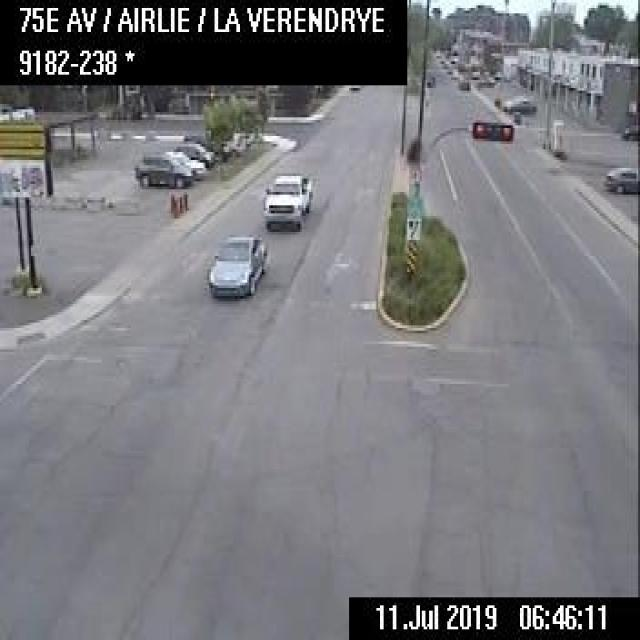construction: (172, 194, 179, 214), (176, 192, 182, 212)
vehicle: (206, 235, 266, 299), (262, 173, 310, 230), (132, 150, 191, 187), (165, 147, 204, 180), (602, 163, 638, 193), (172, 140, 213, 166), (501, 93, 535, 114), (456, 74, 471, 88)
